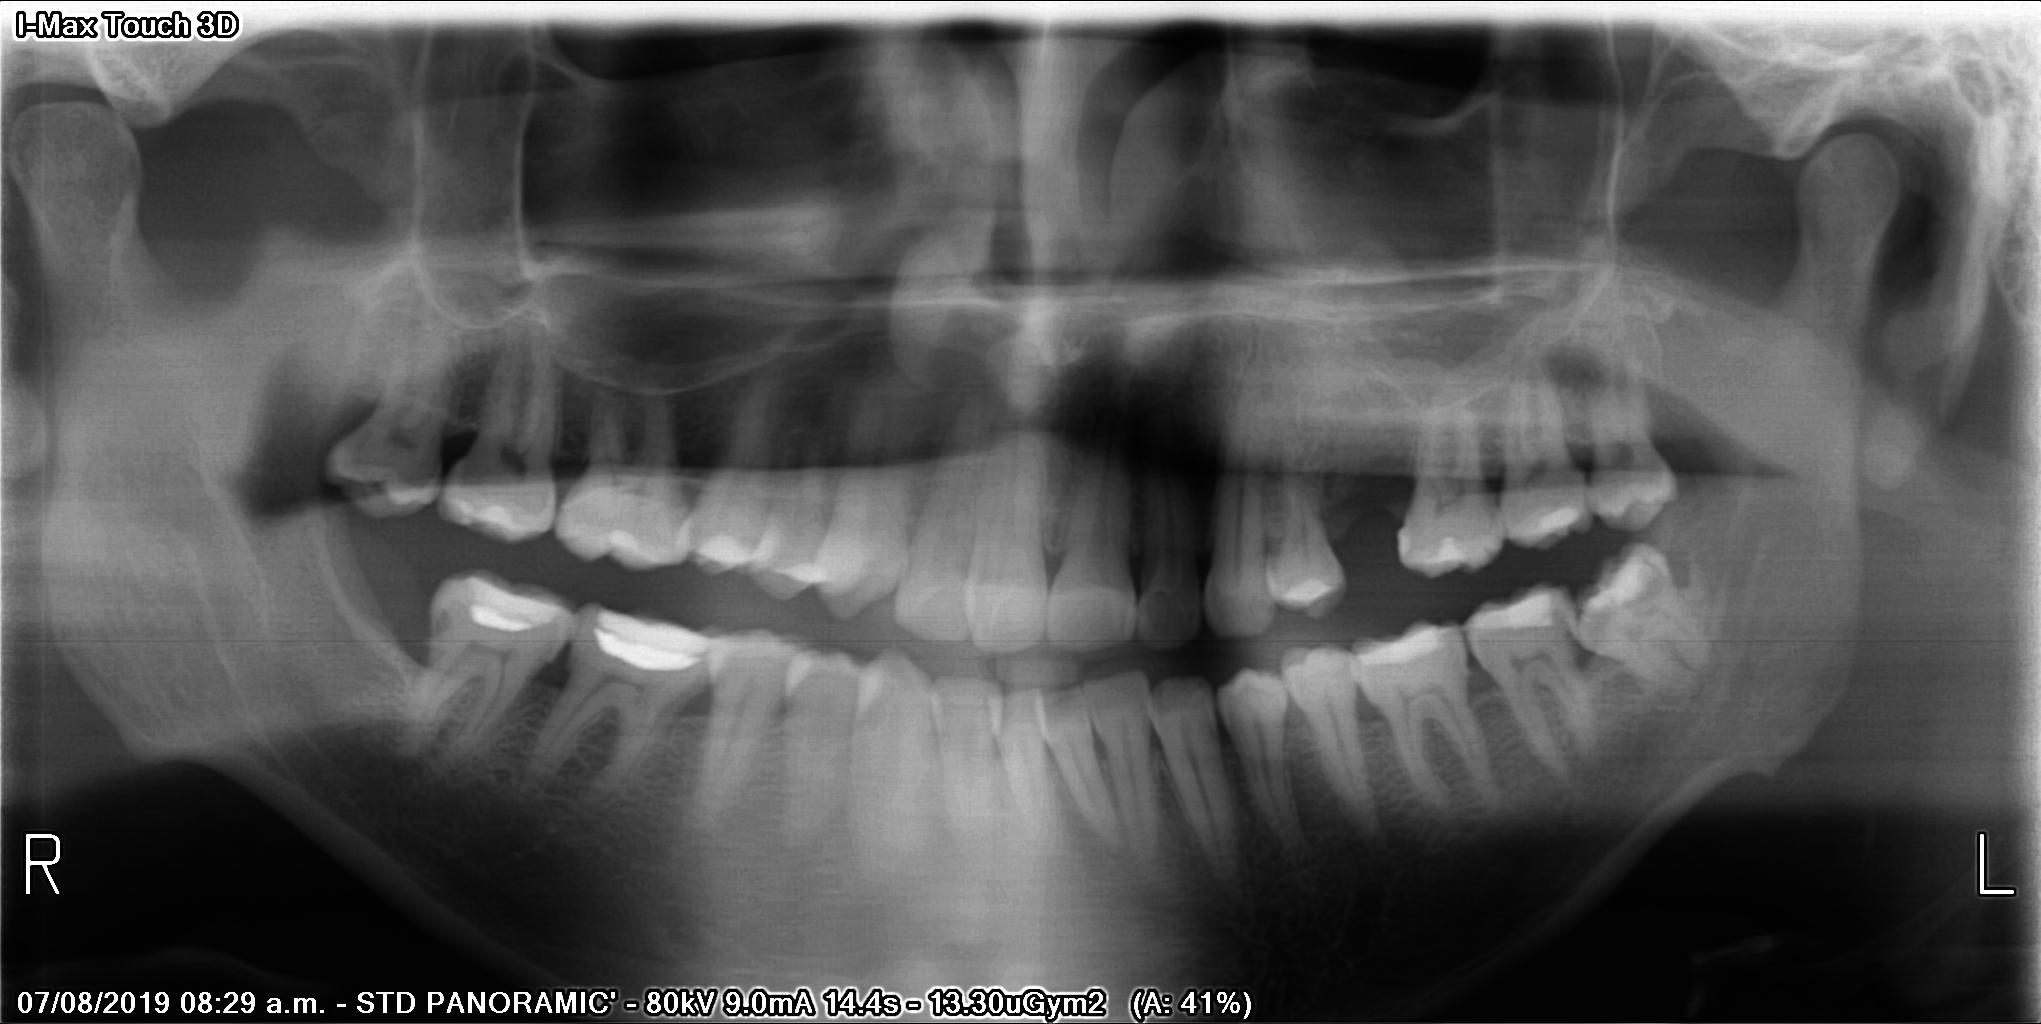Çürük: (590, 594, 713, 673), (461, 564, 565, 640), (1349, 619, 1456, 670), (1472, 589, 1557, 649), (1422, 529, 1485, 580), (1527, 504, 1593, 543)
Çürük Bölgesi: (427, 597, 474, 654), (1564, 573, 1604, 626), (1631, 563, 1677, 606), (1593, 611, 1628, 637)
